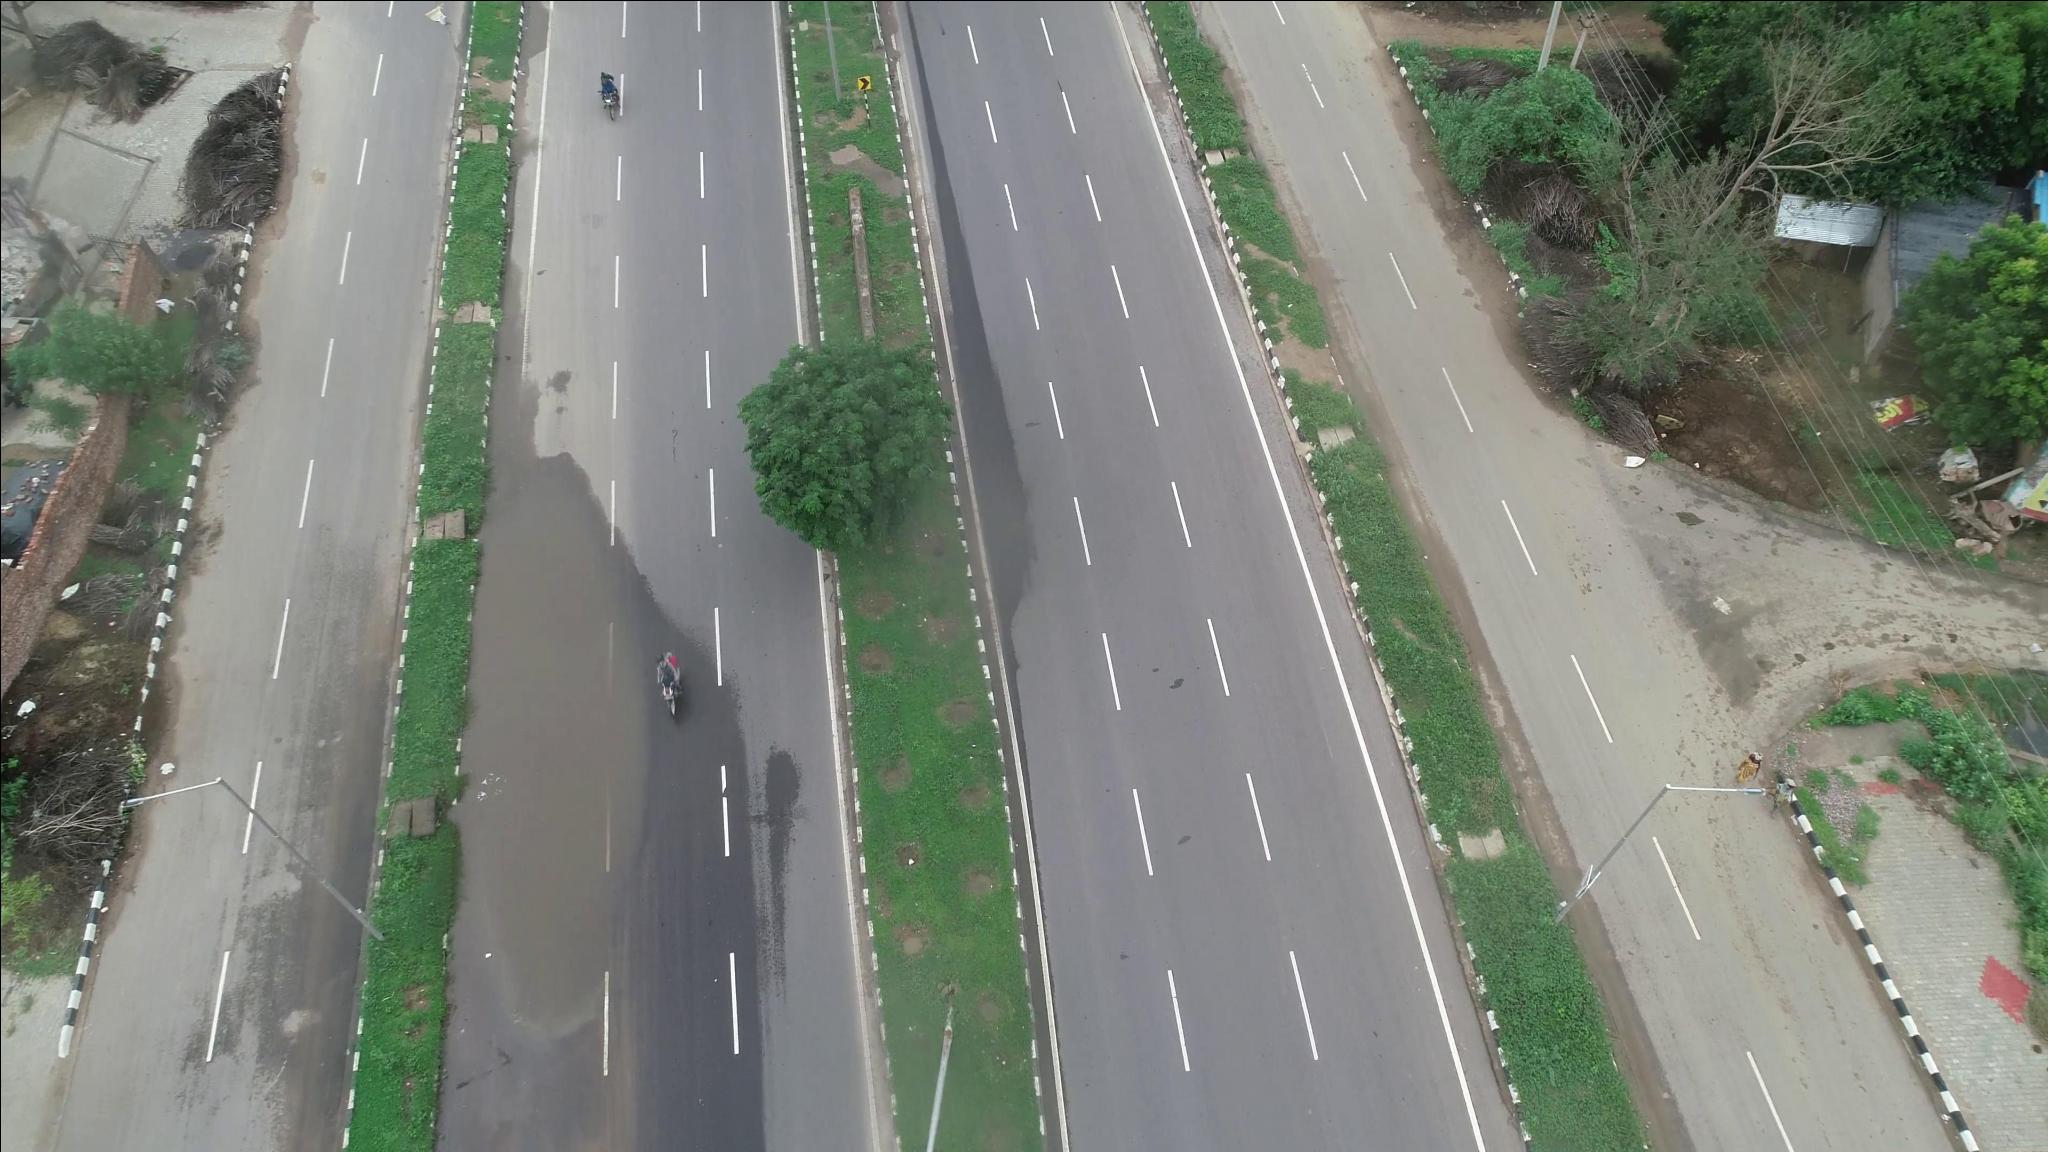Waterlogging: (456, 487, 640, 1063)
